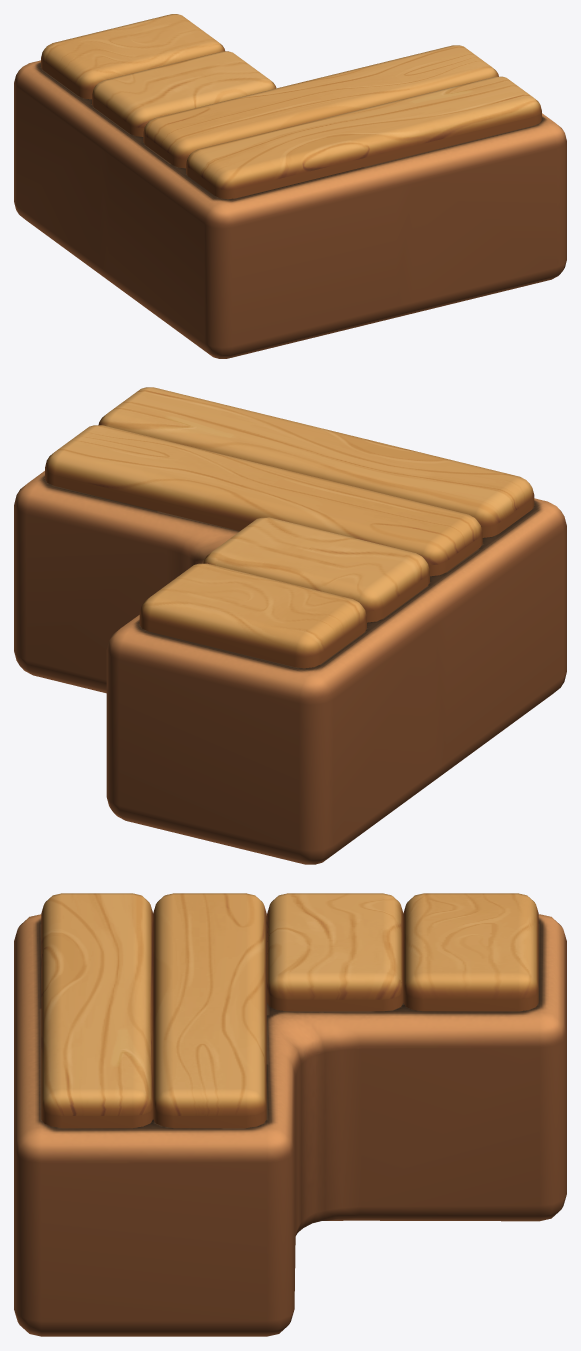
File: WoodenBox_L_2x2.fbx
3 renders of one model, top to bottom at view 1: azimuth 30°, elevation 25°; view 2: azimuth 150°, elevation 25°; view 3: azimuth 270°, elevation 25°, orthographic. The views are drawn at different scales.
Parts seen in each view (by area): view 1: boxL_2x2; view 2: boxL_2x2; view 3: boxL_2x2.
Part boxes in pixels (bbox=[...]): boxL_2x2: bbox=[14, 14, 566, 358]; boxL_2x2: bbox=[14, 387, 566, 864]; boxL_2x2: bbox=[14, 893, 566, 1336].
Bounding box in the file's own units: 2.02 × 0.961 × 2.03.
